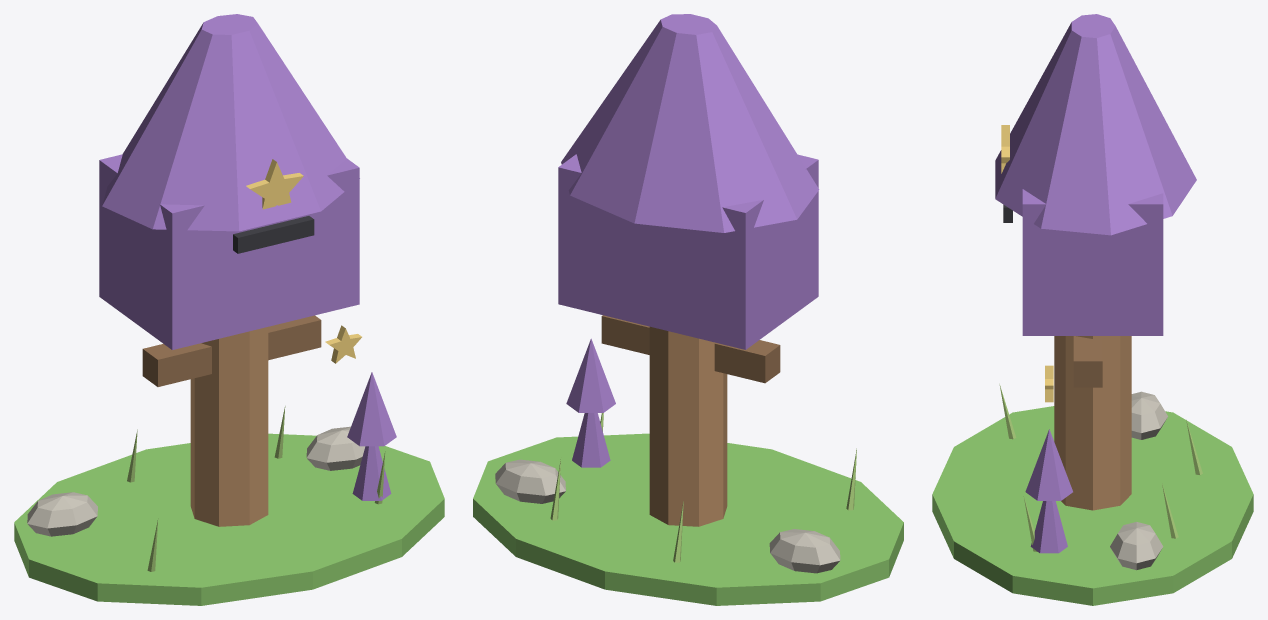
3 views of the same model, side by side, from view 1: azimuth 30°, elevation 25°; view 2: azimuth 150°, elevation 25°; view 3: azimuth 270°, elevation 25° (orthographic). The views are drawn at different scales.
Visible parts, largest first — view 1: round grass base, wizard hat roof, purple house box, wooden post, cross supports, small rock.001, purple side crystal top, small rock, slot, purple side crystal bottom, front gold star, hanging star; view 2: round grass base, wizard hat roof, purple house box, wooden post, cross supports, small rock.001, small rock, purple side crystal top, purple side crystal bottom; view 3: round grass base, wizard hat roof, purple house box, wooden post, purple side crystal top, small rock, cross supports, small rock.001, purple side crystal bottom.
Part boxes in pixels (x1=…): round grass base: x1=14, y1=433, x2=444, y2=605; wizard hat roof: x1=102, y1=14, x2=359, y2=231; purple house box: x1=99, y1=154, x2=359, y2=349; wooden post: x1=190, y1=327, x2=268, y2=526; cross supports: x1=142, y1=315, x2=321, y2=386; small rock.001: x1=27, y1=492, x2=97, y2=536; purple side crystal top: x1=347, y1=372, x2=396, y2=446; small rock: x1=306, y1=426, x2=365, y2=470; slot: x1=233, y1=216, x2=314, y2=253; purple side crystal bottom: x1=352, y1=446, x2=391, y2=500; front gold star: x1=246, y1=159, x2=303, y2=209; hanging star: x1=325, y1=325, x2=361, y2=363; round grass base: x1=473, y1=433, x2=903, y2=605; wizard hat roof: x1=561, y1=14, x2=819, y2=232; purple house box: x1=558, y1=154, x2=818, y2=349; wooden post: x1=649, y1=326, x2=727, y2=526; cross supports: x1=601, y1=315, x2=780, y2=383; small rock.001: x1=769, y1=529, x2=840, y2=573; small rock: x1=495, y1=459, x2=565, y2=503; purple side crystal top: x1=566, y1=338, x2=615, y2=412; purple side crystal bottom: x1=572, y1=413, x2=610, y2=467; round grass base: x1=932, y1=406, x2=1253, y2=605; wizard hat roof: x1=995, y1=14, x2=1196, y2=235; purple house box: x1=1022, y1=189, x2=1163, y2=335; wooden post: x1=1054, y1=336, x2=1131, y2=510; purple side crystal top: x1=1025, y1=429, x2=1072, y2=500; small rock: x1=1110, y1=522, x2=1163, y2=570; cross supports: x1=1073, y1=336, x2=1102, y2=387; small rock.001: x1=1131, y1=391, x2=1167, y2=439; purple side crystal bottom: x1=1030, y1=501, x2=1067, y2=553.
Size of the model in its own units: 1.84 by 2.22 by 1.32.
